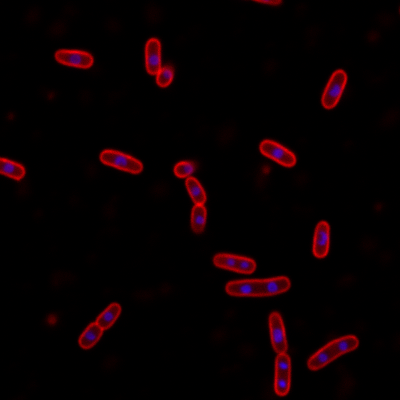CAM: (75, 302, 124, 349), (268, 312, 292, 397), (307, 334, 359, 370), (224, 274, 290, 297), (259, 137, 297, 169), (320, 68, 348, 110), (212, 251, 257, 275), (100, 149, 143, 174), (312, 219, 332, 259), (55, 49, 93, 70), (145, 38, 162, 76)
Oblique: (184, 177, 208, 235), (172, 160, 196, 178), (156, 66, 173, 89)
